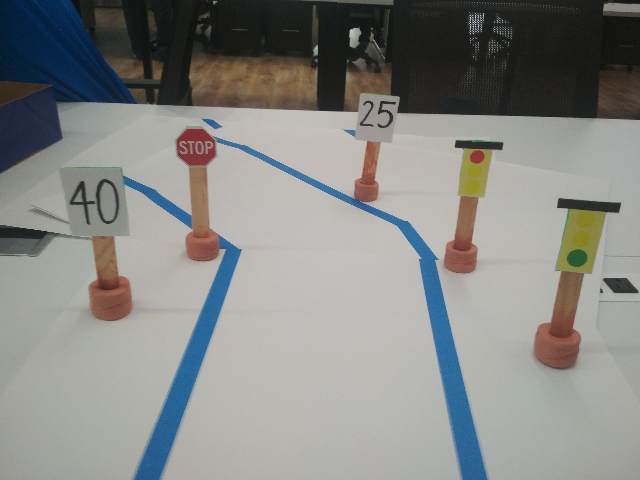Green Traffic Light: (549, 194, 619, 278)
Red Traffic Light: (448, 138, 506, 200)
Speed Limit 25: (353, 91, 400, 144)
Speed Limit 40: (55, 165, 133, 236)
Stop Sign: (171, 124, 219, 167)
